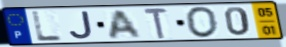0: (223, 6, 252, 38)
A: (108, 9, 144, 40)
J: (68, 10, 95, 40)
L: (31, 10, 65, 43)
O: (184, 5, 220, 39)
T: (142, 7, 170, 40)
